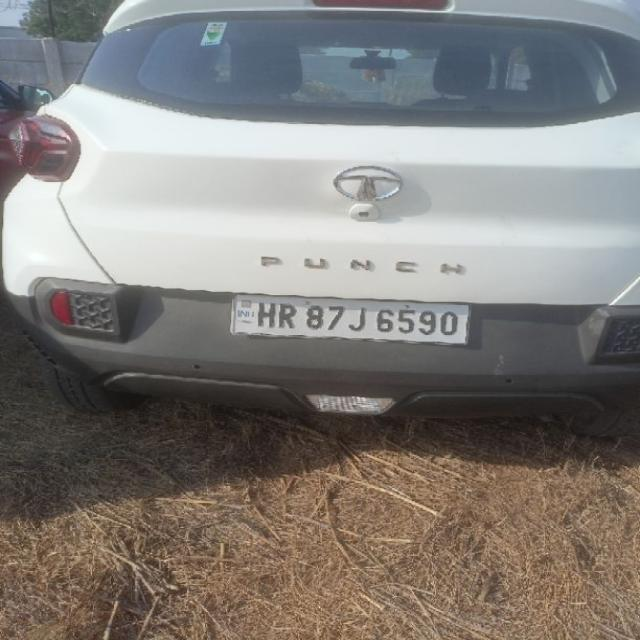license_plate: (228, 292, 473, 346), (302, 392, 396, 416)
